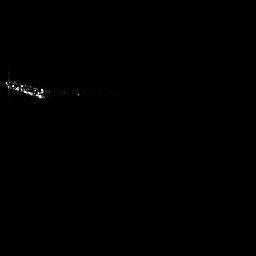ship: (5, 78, 82, 101)
